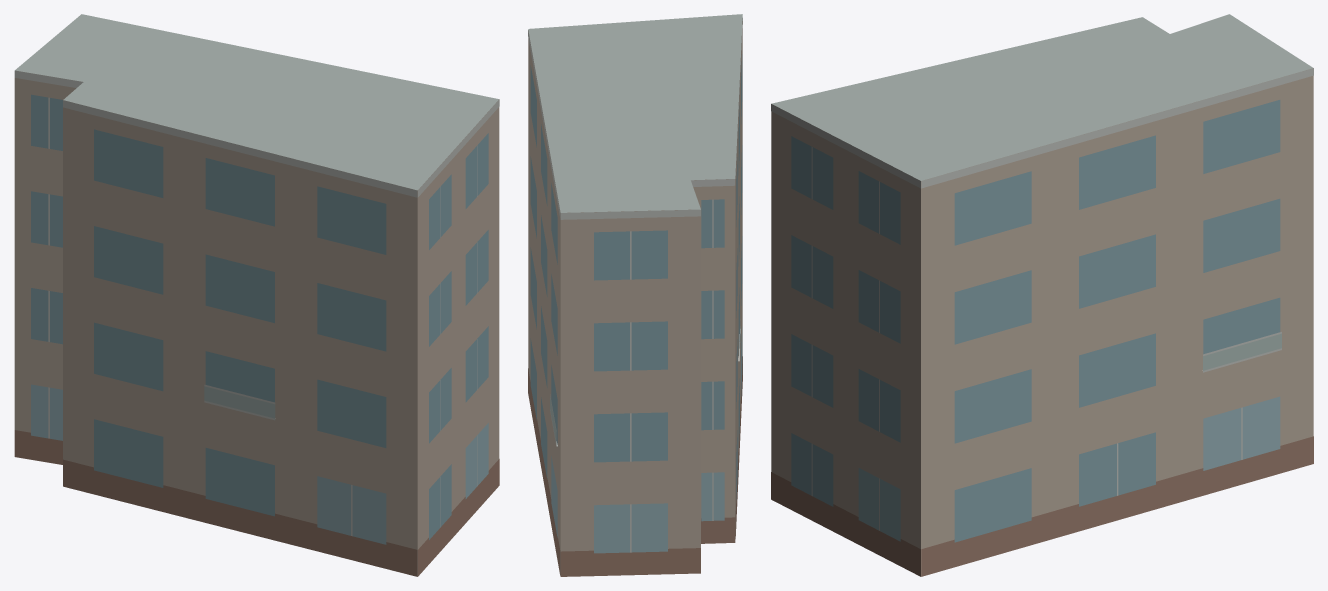
File: survey-upis-32508806.glb
The picture shows the model from 3 angles, left to right: view 1: azimuth 30°, elevation 25°; view 2: azimuth 150°, elevation 25°; view 3: azimuth 270°, elevation 25°; orthographic projection. The views are drawn at different scales.
Parts seen in each view (by area): view 1: survey-upis-32508806.tmp; view 2: survey-upis-32508806.tmp; view 3: survey-upis-32508806.tmp.
Boxes of the visible parts, bbox=[...] form: survey-upis-32508806.tmp: bbox=[14, 14, 499, 576]; survey-upis-32508806.tmp: bbox=[528, 14, 742, 576]; survey-upis-32508806.tmp: bbox=[771, 14, 1313, 576].
Bounding box in the file's own units: 11.59 × 12.8 × 15.91.
